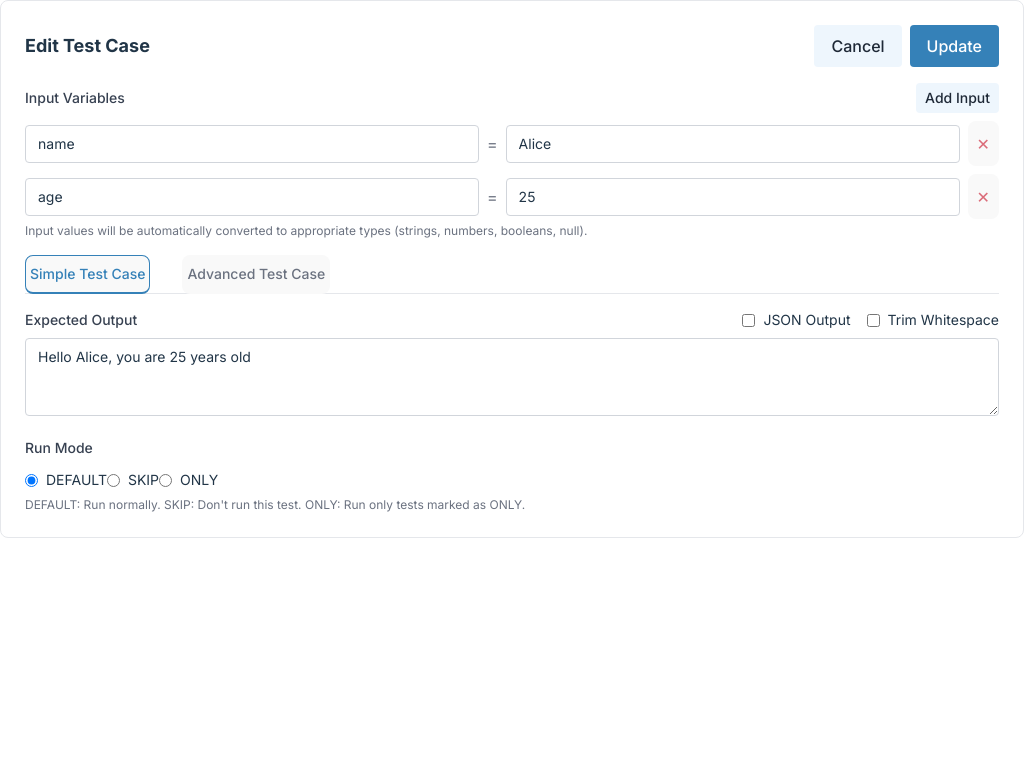
it: TestCaseEditor › allows removing input fields
expect the 1st field showing "name" is shown: met, box 25,125 -> 479,163
expect the 3rd field showing "age" is shown: met, box 25,178 -> 479,216
Click the 1st button "✕" at (983, 144), box 968,121 -> 999,166
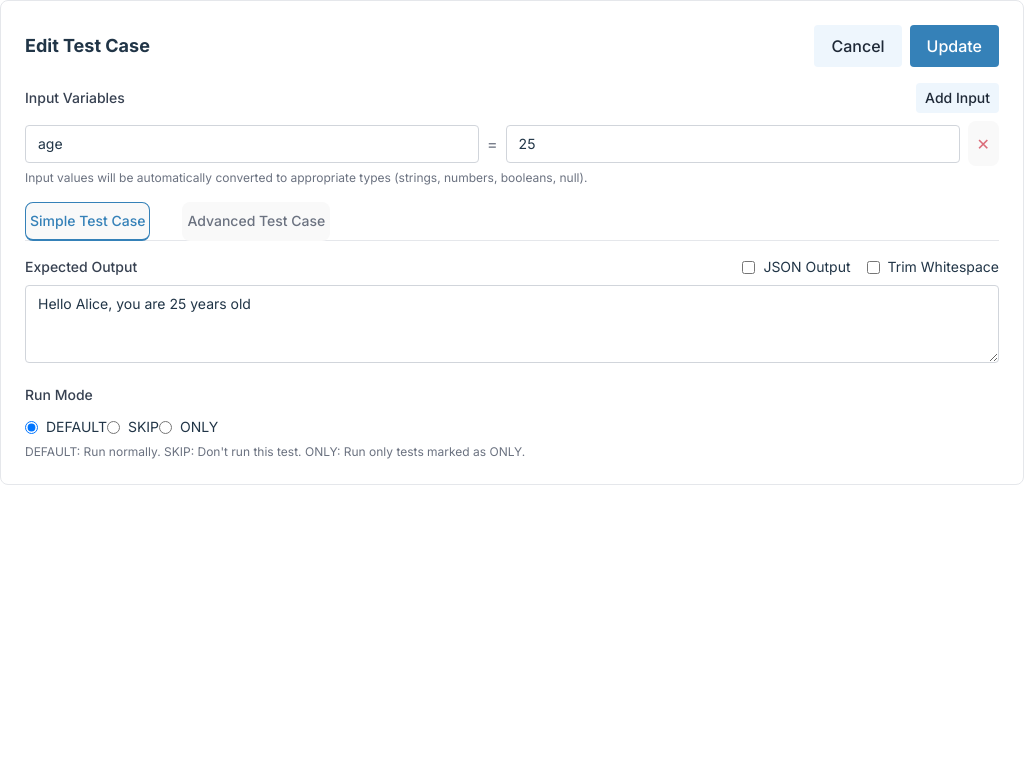
expect the field showing "name" is not shown: met
expect the 1st field showing "age" is shown: met, box 25,125 -> 479,163
